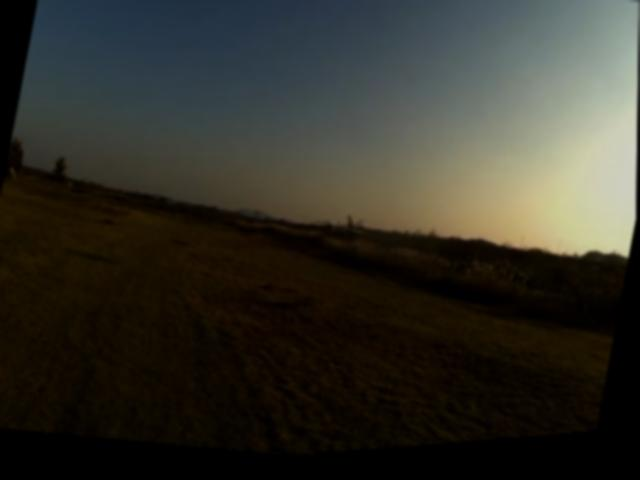uav: (306, 206, 378, 263)
